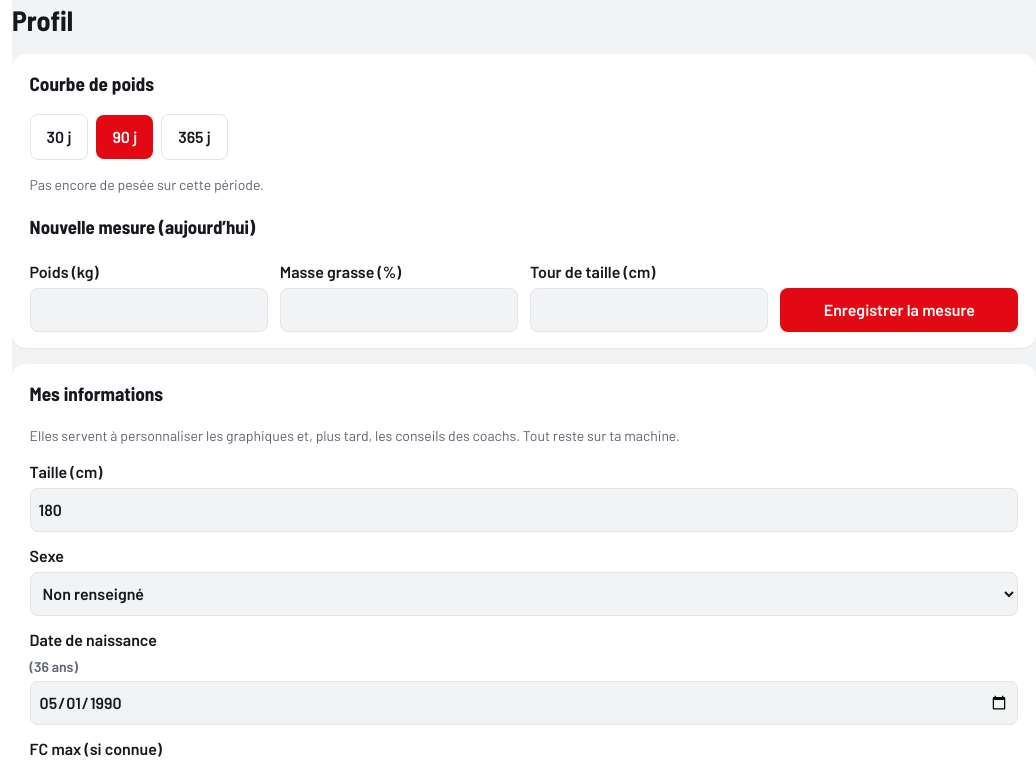
Test case: ProfilePage › shows field errors and does not send an invalid profile
Replace the text in the field labelled "Taille (cm)" with "300" at (524, 510), box 30,488 -> 1018,532
(page scrolled)
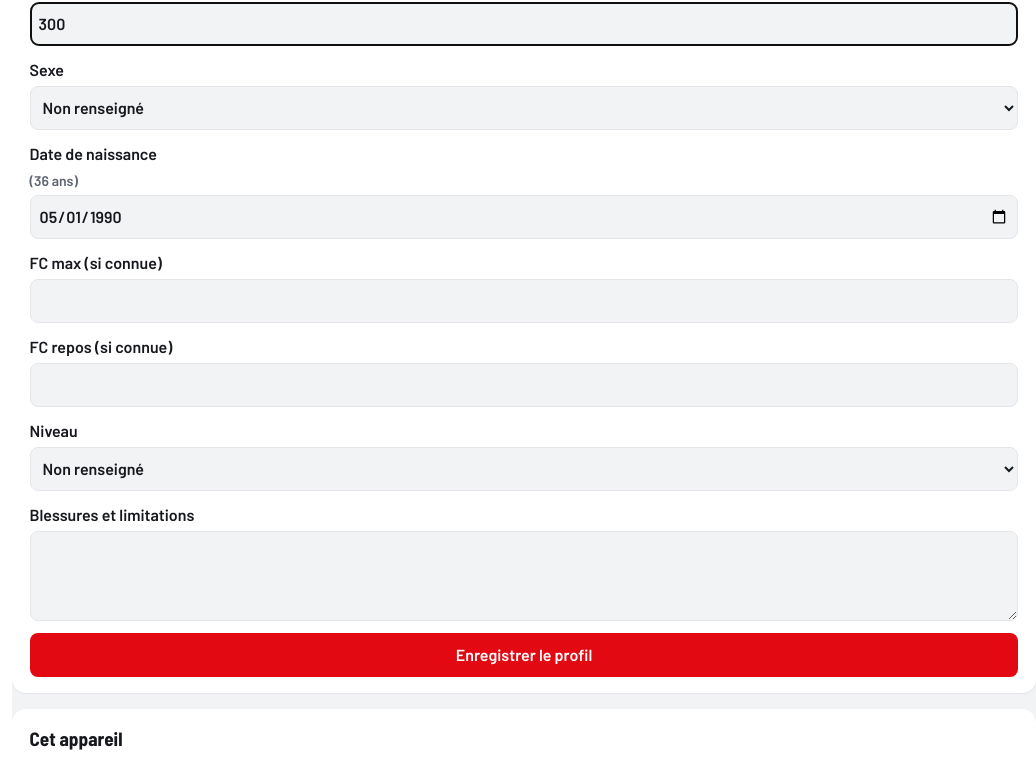
Type "10" into the field labelled "FC repos (si connue)" at (524, 385), box 30,363 -> 1018,407
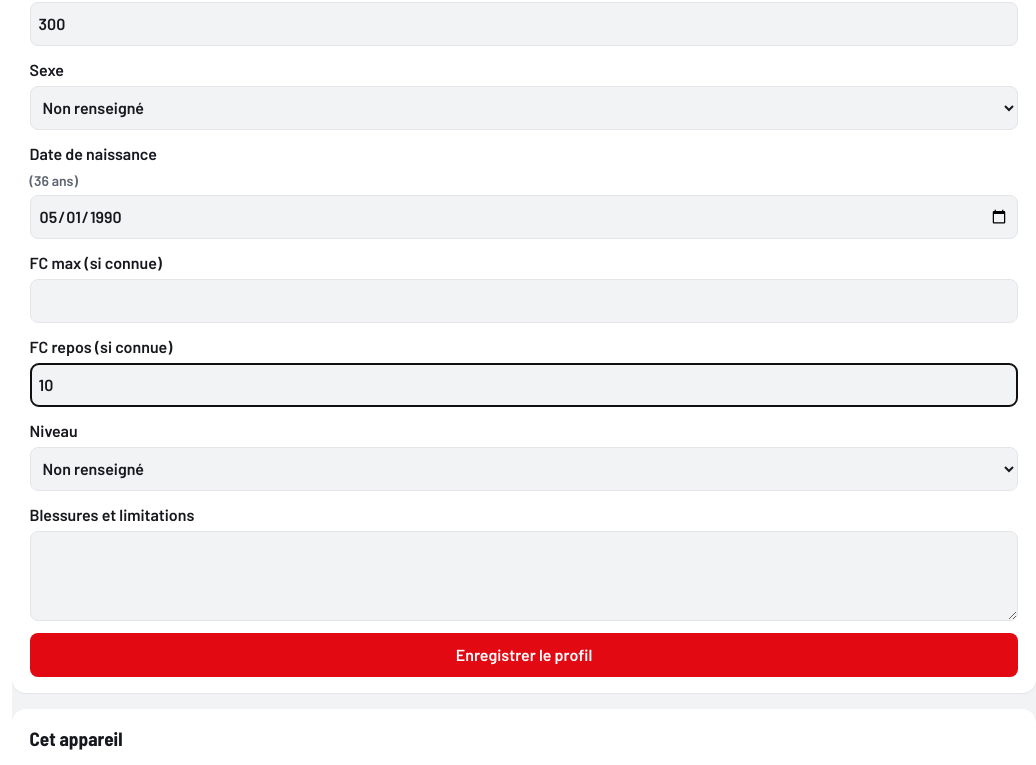
Click the button "Enregistrer le profil" at (524, 655), box 30,633 -> 1018,677
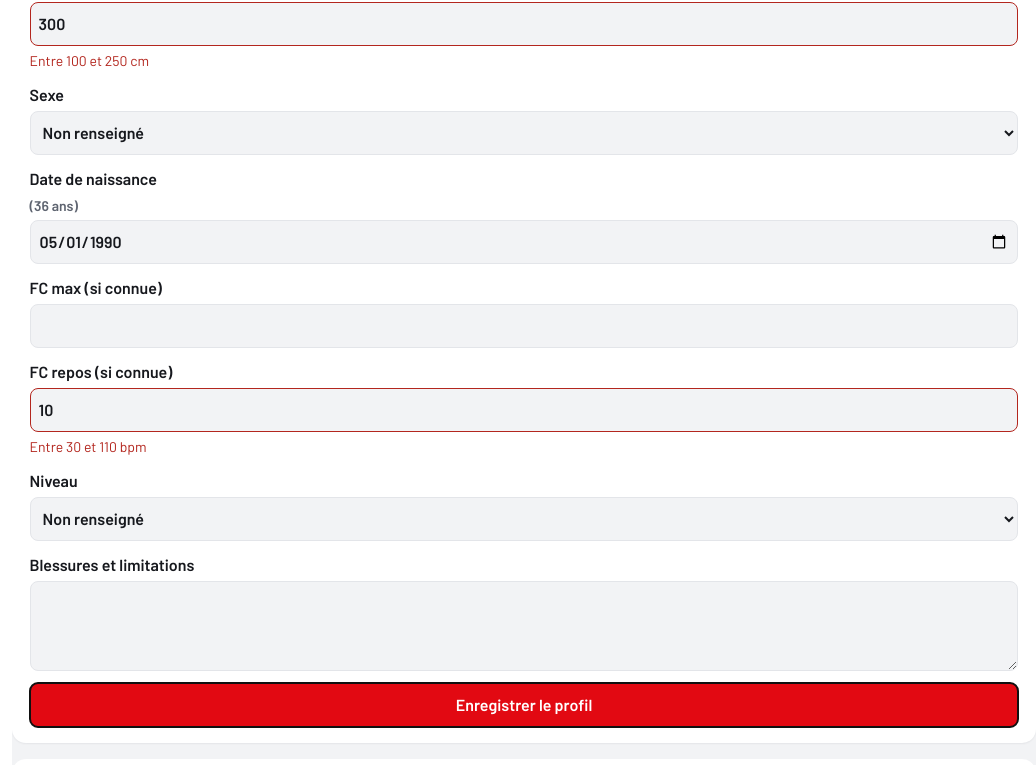
expect the text "Entre 100 et 250 cm" is shown: met, box 30,52 -> 149,69
expect the text "Entre 30 et 110 bpm" is shown: met, box 30,438 -> 147,455
